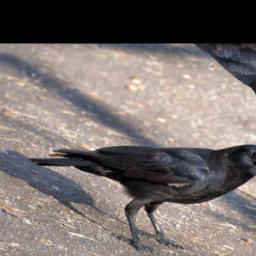Crow: (3, 79, 256, 256)
